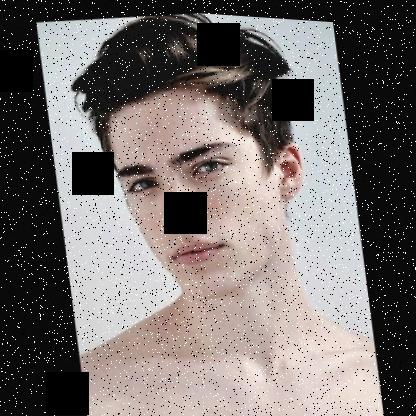Male: (99, 65, 315, 309)
